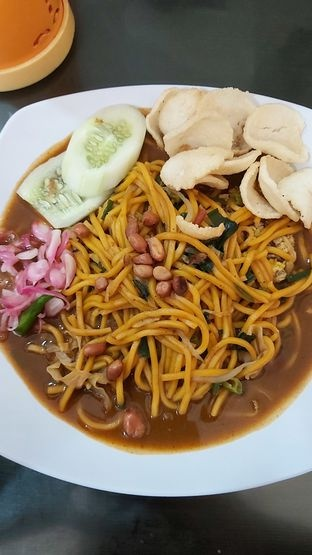mie_aceh: (6, 165, 312, 455)
